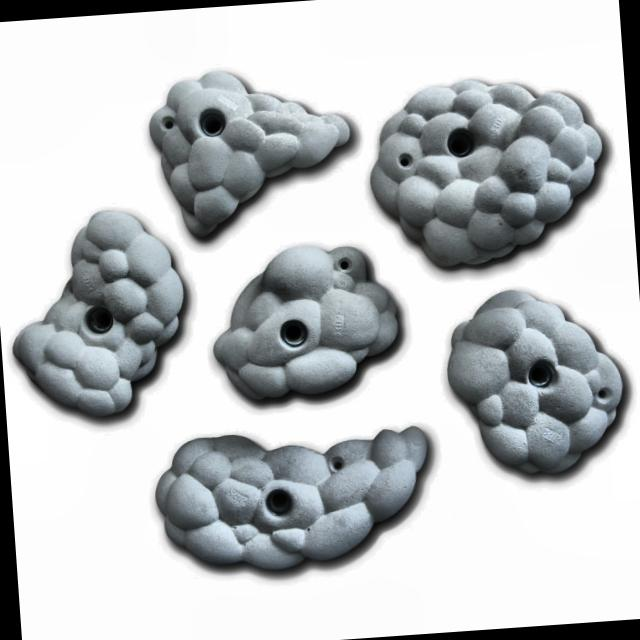Hold: (154, 411, 451, 590), (374, 80, 604, 269), (7, 208, 195, 430), (443, 274, 631, 488), (150, 60, 360, 242), (196, 236, 426, 398)
